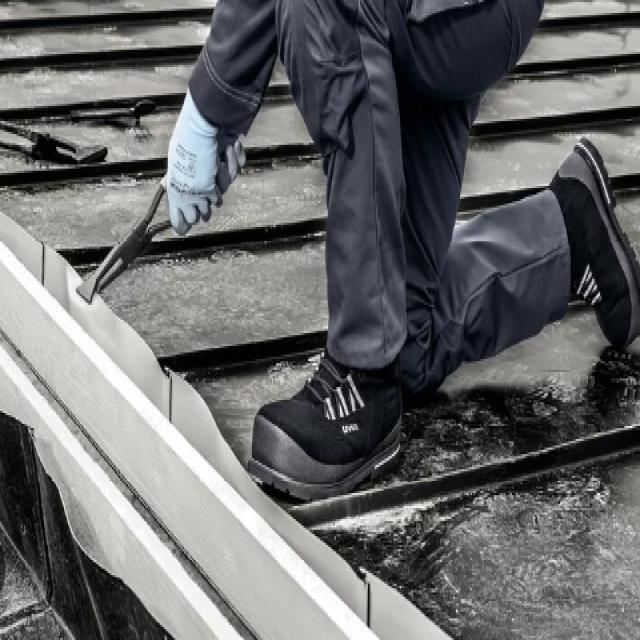boots: (249, 132, 639, 502)
